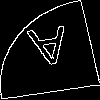A: (25, 25, 74, 77)
